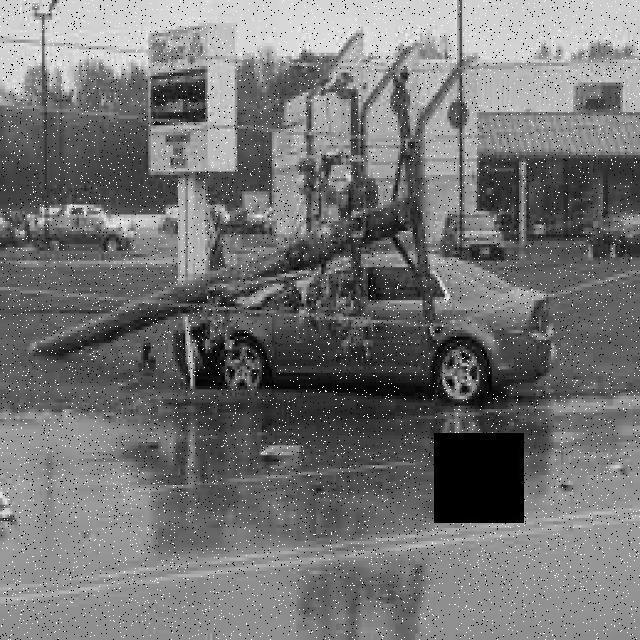accident: (178, 197, 559, 398)
vehicle: (24, 205, 140, 263), (580, 198, 640, 274), (440, 204, 506, 265)
